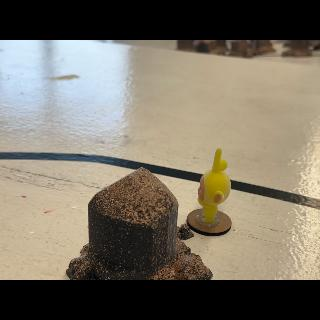teletubby: (198, 148, 231, 223)
